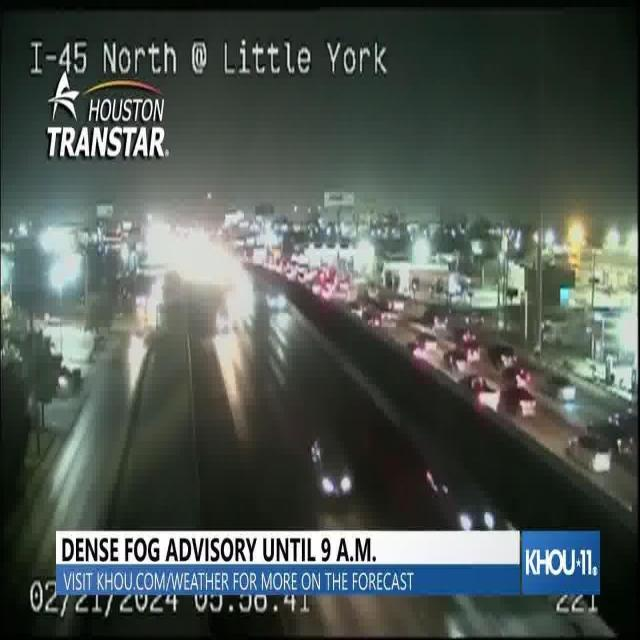Car: (419, 443, 500, 531), (308, 428, 355, 504)
